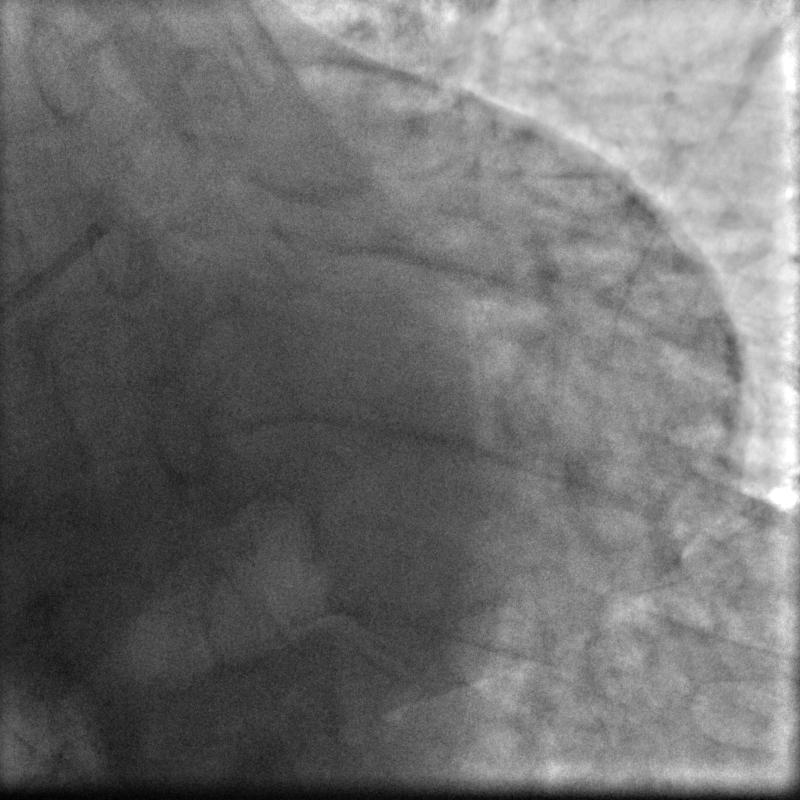Stenosis: (165, 226, 203, 275)
